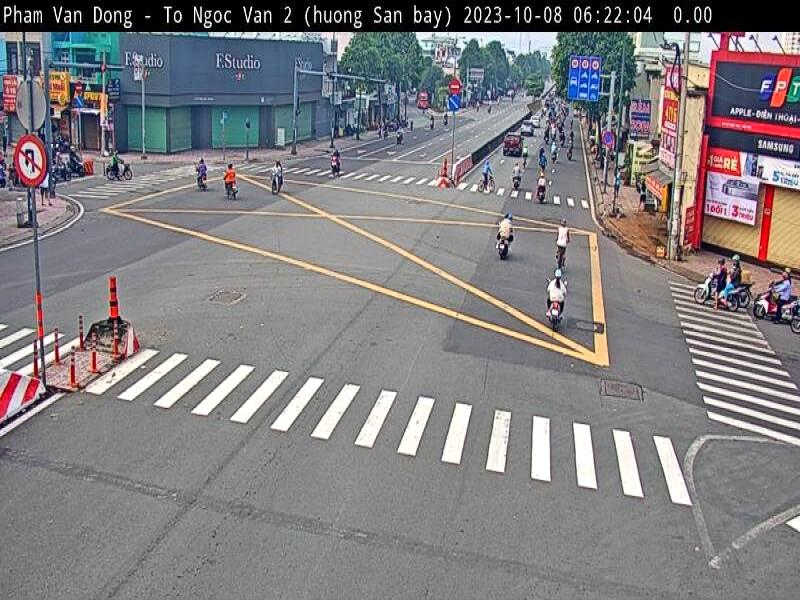motorcycle: (694, 273, 741, 312), (751, 286, 778, 319), (548, 301, 564, 332)
